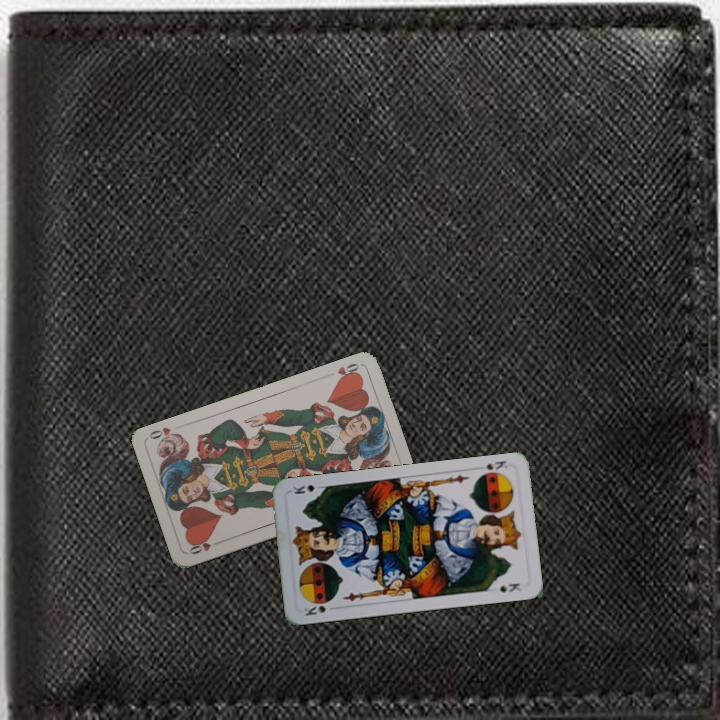HO: (323, 359, 363, 384), (185, 536, 224, 557)
SK: (300, 602, 339, 618), (481, 456, 510, 473)
